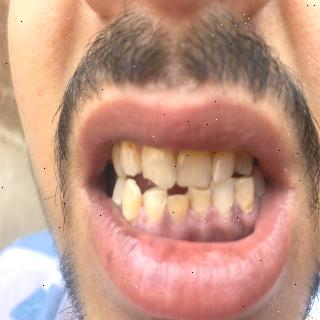maligned: (233, 170, 257, 213), (144, 183, 170, 222), (164, 187, 191, 224), (188, 180, 212, 220), (120, 178, 140, 222)
stains: (127, 141, 143, 174), (239, 191, 257, 215), (134, 192, 148, 215), (229, 183, 240, 204)
